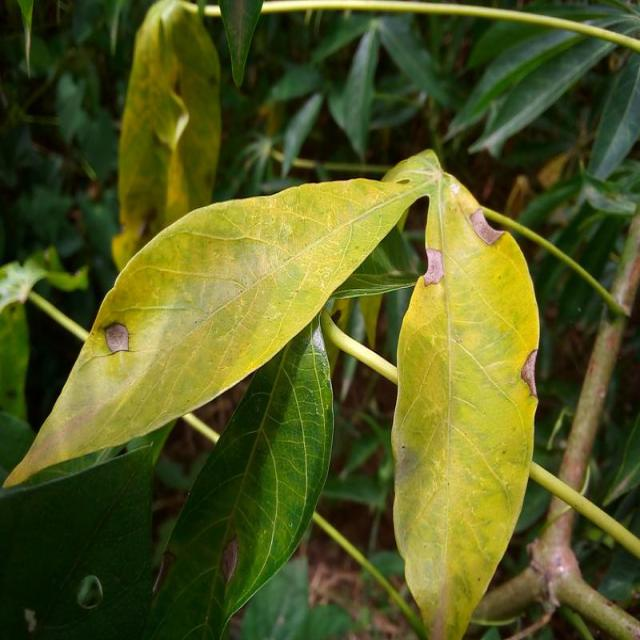cassava leaf: (1, 154, 442, 491), (388, 167, 541, 638), (144, 310, 334, 638)
